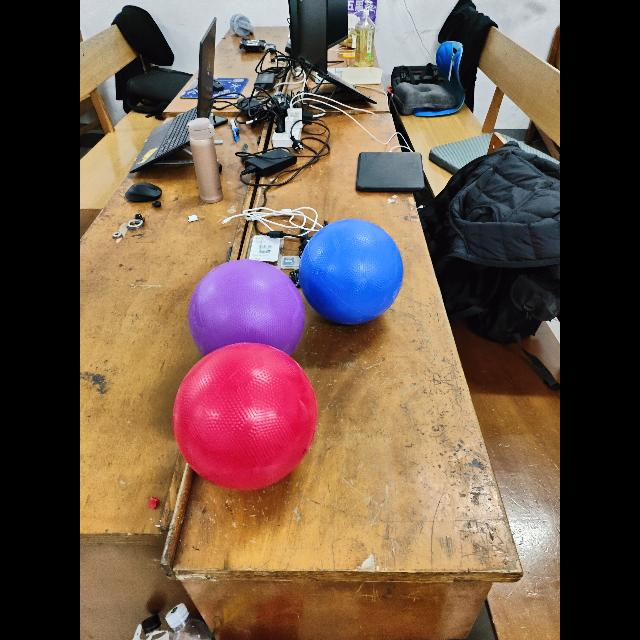B: (297, 216, 405, 324)
P: (188, 259, 308, 365)
R: (174, 338, 316, 488)
